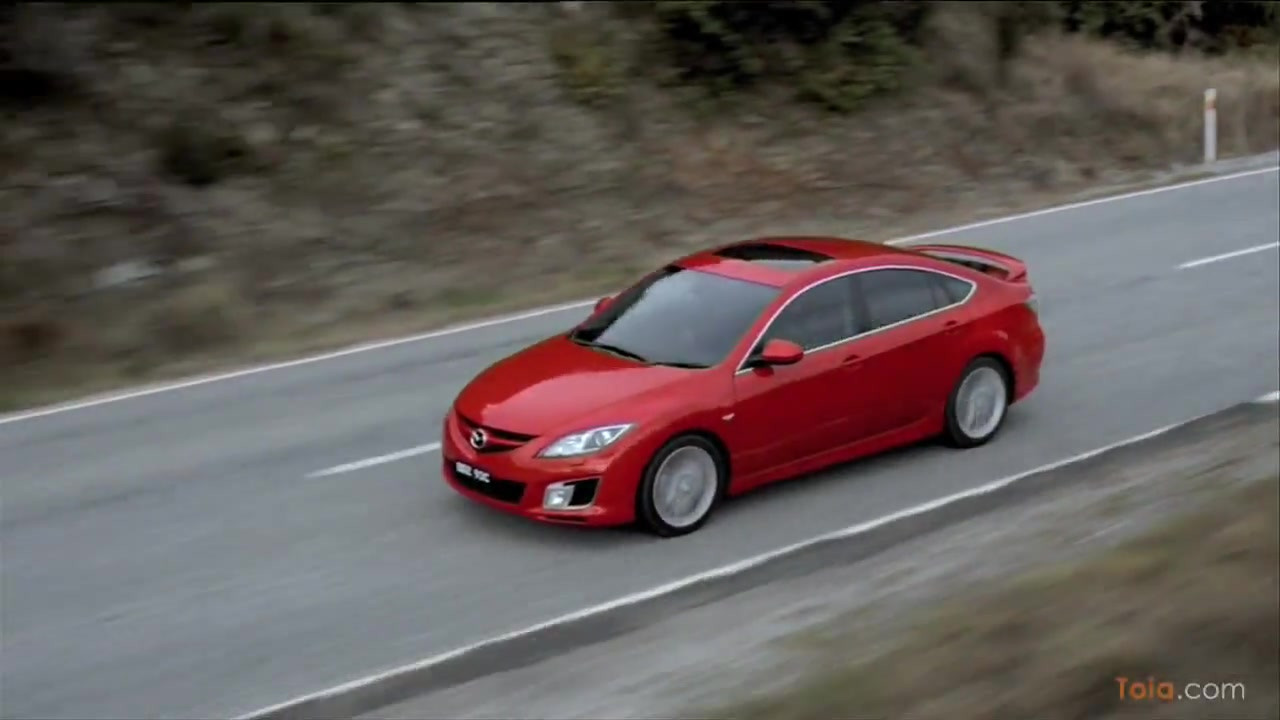car: (439, 232, 1051, 539)
